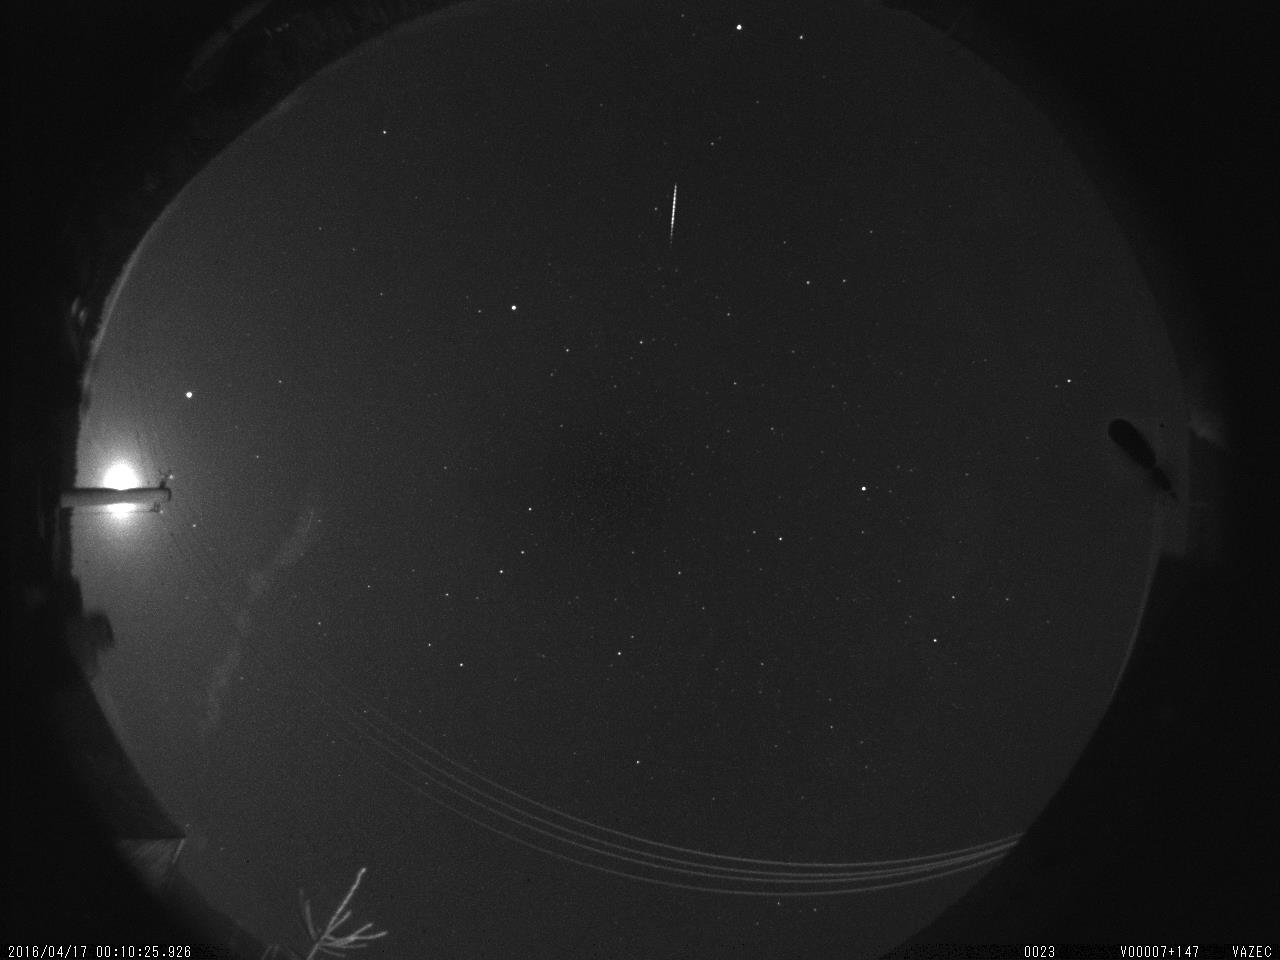meteor: (659, 179, 685, 247)
